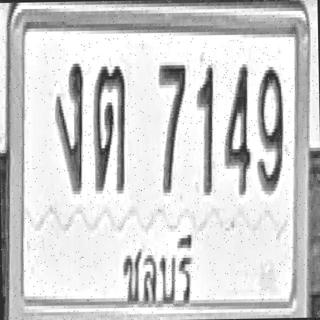A07: (55, 60, 85, 191)
A21: (92, 63, 126, 194)
N01: (196, 61, 215, 195)
N04: (222, 61, 251, 195)
N07: (158, 61, 188, 192)
N09: (255, 65, 284, 192)
P13: (114, 221, 200, 316)
